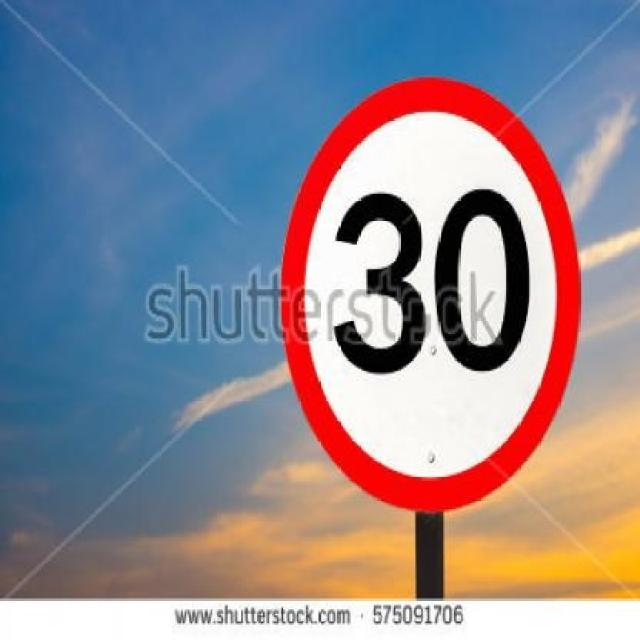forb_speed_over_30: (287, 83, 576, 495)
